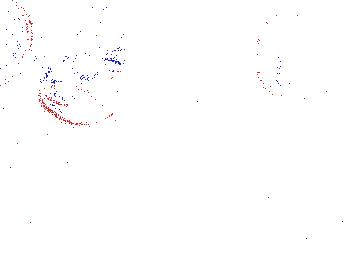moon jellyfish: (255, 1, 346, 103), (38, 58, 135, 126), (41, 4, 98, 85), (1, 1, 33, 83)
